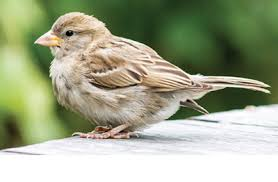hsparrow: (30, 9, 276, 156)
